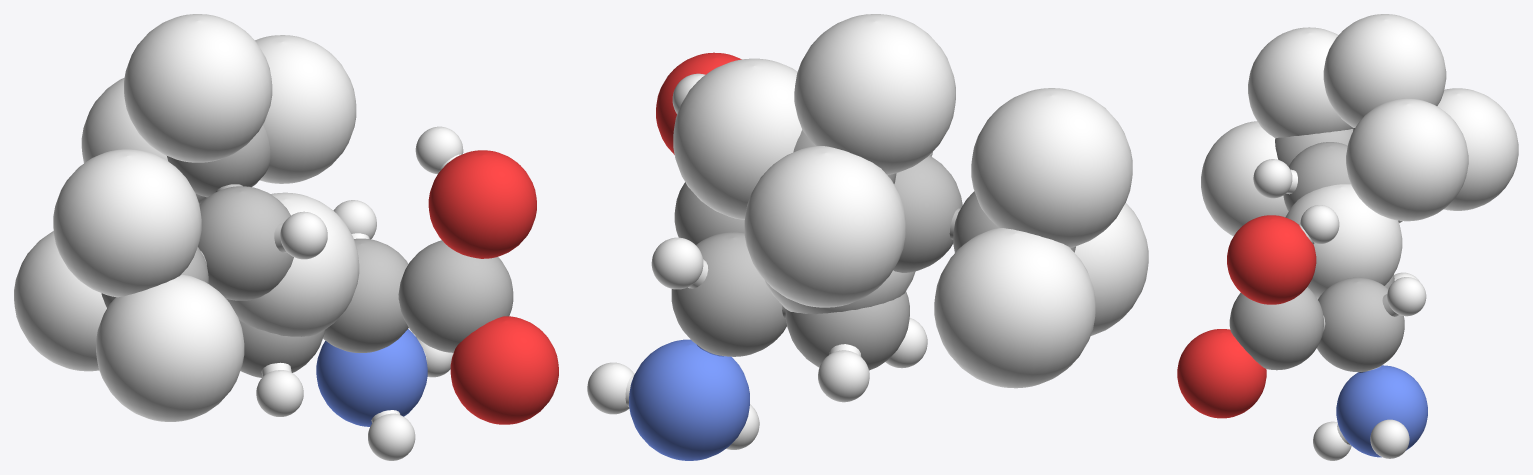
Rendered from leucine.glb.
3 renders of one model, left to right at view 1: azimuth 30°, elevation 25°; view 2: azimuth 150°, elevation 25°; view 3: azimuth 270°, elevation 25°, orthographic. The views are drawn at different scales.
Parts seen in each view (by area): view 1: HD_ball (×7), Carbon_ball (×6), Oxygen_ball (×2), Hydrogen_ball (×6), Nitrogen_ball; view 2: HD_ball (×7), Carbon_ball (×5), Nitrogen_ball, Hydrogen_ball (×6), Oxygen_ball; view 3: HD_ball (×6), Carbon_ball (×4), Oxygen_ball (×4), Hydrogen_ball (×5), Nitrogen_ball.
Part boxes in pixels (x1,y1,x2,y2): HD_ball (×7): (14,14,359,421); Carbon_ball (×6): (101,125,513,377); Oxygen_ball (×2): (428,150,558,424); Hydrogen_ball (×6): (256,126,463,460); Nitrogen_ball: (316,329,427,426); HD_ball (×7): (673,14,1148,388); Carbon_ball (×5): (671,155,1075,370); Nitrogen_ball: (629,339,749,460); Hydrogen_ball (×6): (587,237,927,449); Oxygen_ball: (656,52,741,154); HD_ball (×6): (1201,14,1518,299); Carbon_ball (×4): (1229,129,1404,371); Oxygen_ball (×4): (1177,215,1316,418); Hydrogen_ball (×5): (1253,159,1426,460); Nitrogen_ball: (1336,365,1427,457).
Bounding box in the file's own units: 6.92 × 6.73 × 5.56.
